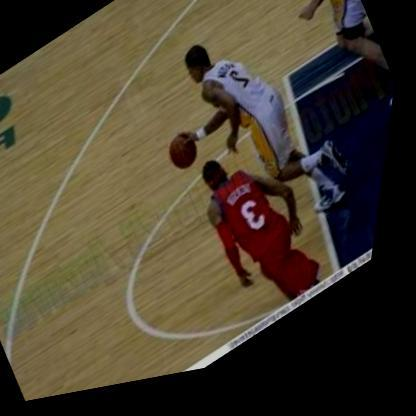basketball: (159, 128, 215, 191)
